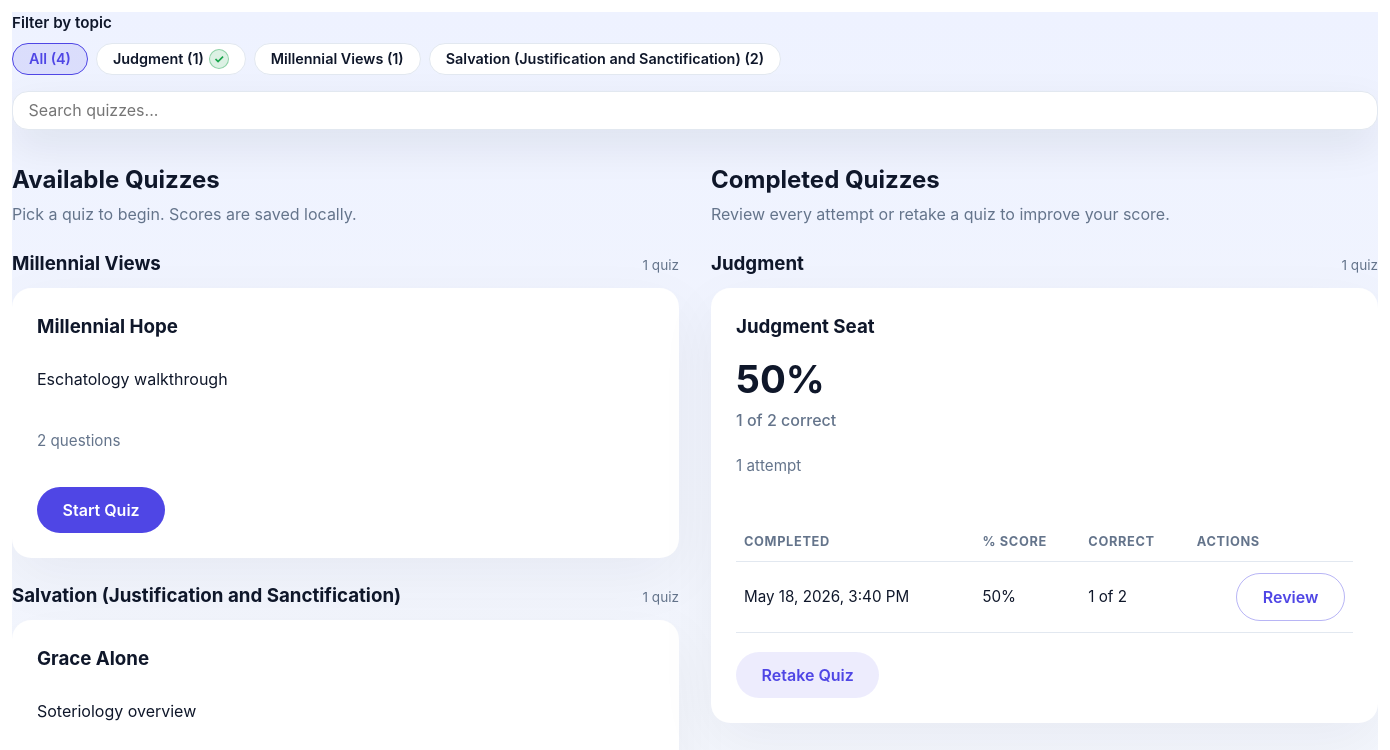
Scenario: QuizListPage › filters both sections when selecting a group on desktop
What coordinates should you click on to do the following:
click the button "Salvation (Justification and Sanctification) (2)"
I would click on:
 (605, 59)
Its box is 429,43 -> 781,75.
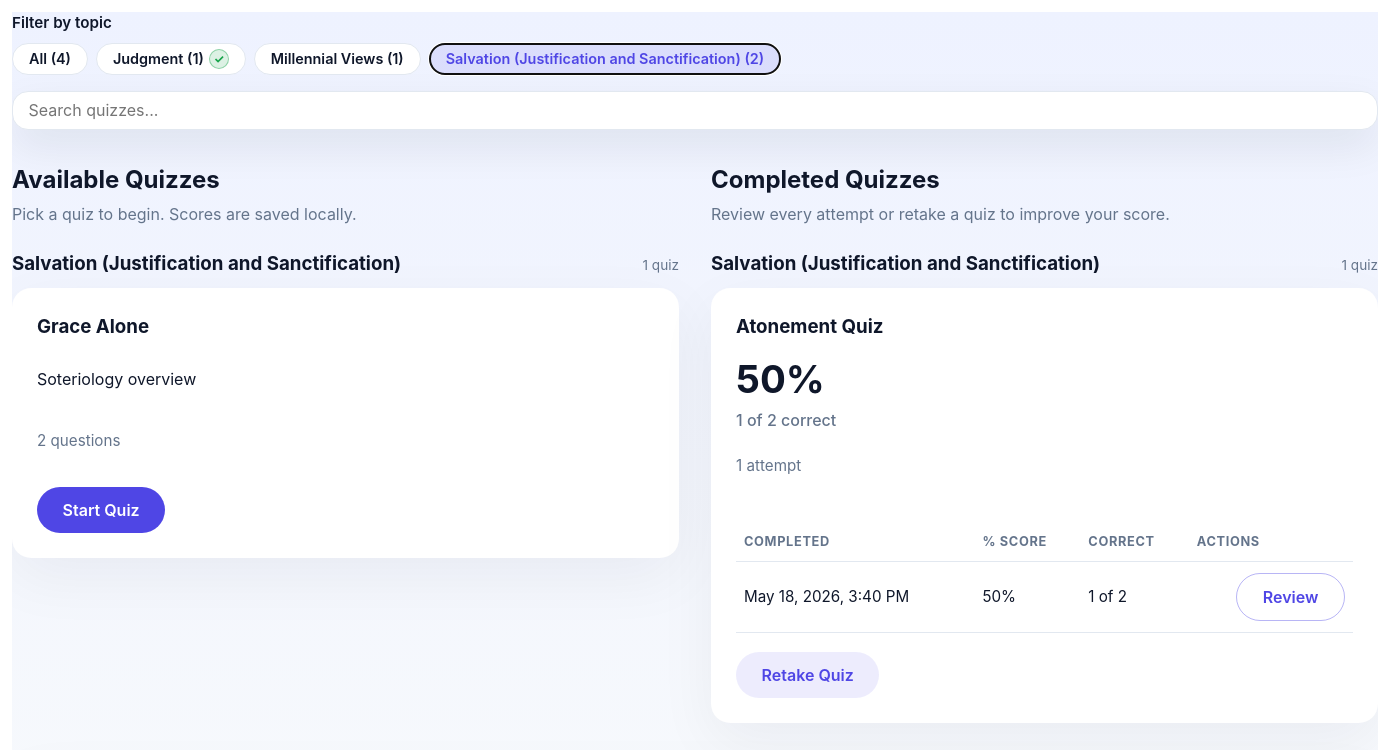
expect the heading "Grace Alone" is shown: met, box 37,315 -> 149,338
expect the heading "Millennial Hope" is gone: met
expect the heading "Judgment Seat" is gone: met
What coordinates should you click on to do the following:
click the button "All (4)"
I would click on:
 (50, 59)
Its box is 12,43 -> 88,75.
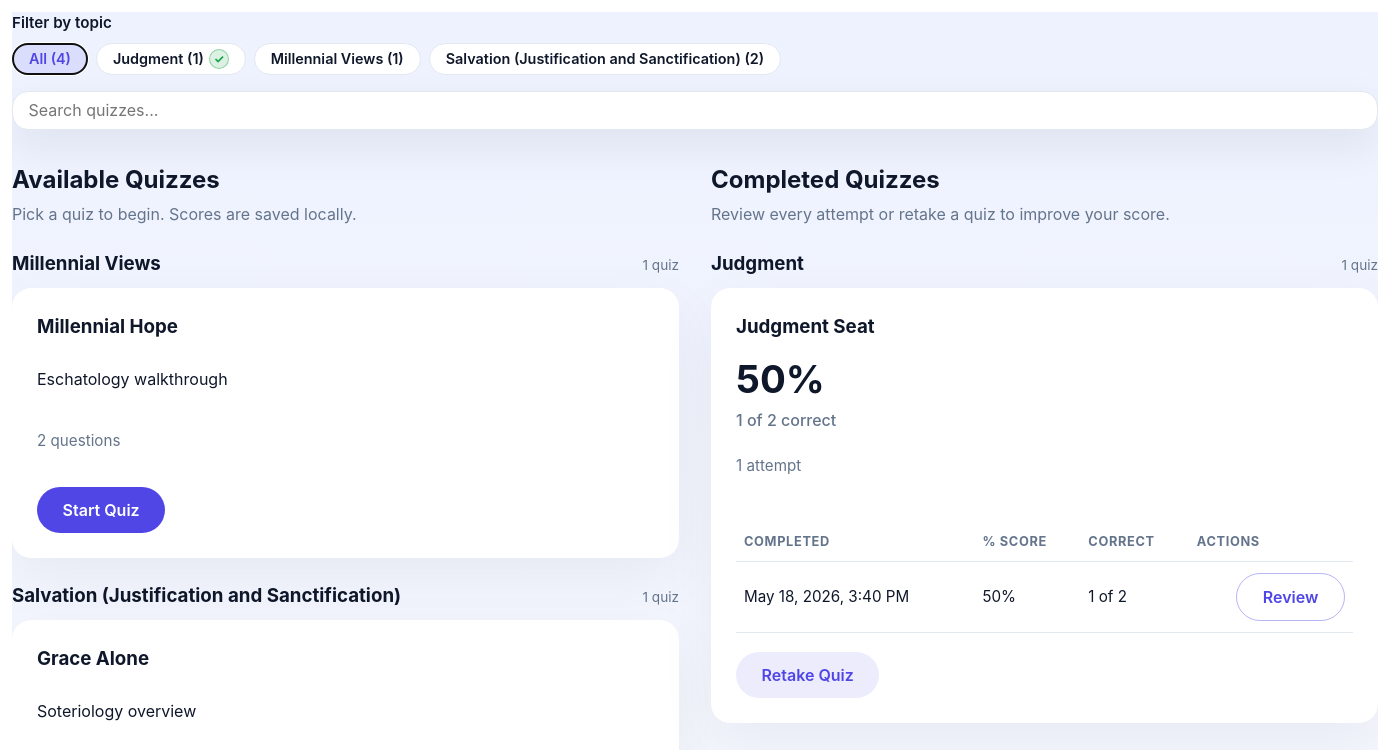
expect the heading "Millennial Hope" is shown: met, box 37,315 -> 178,338
expect the heading "Judgment Seat" is shown: met, box 736,315 -> 875,338
